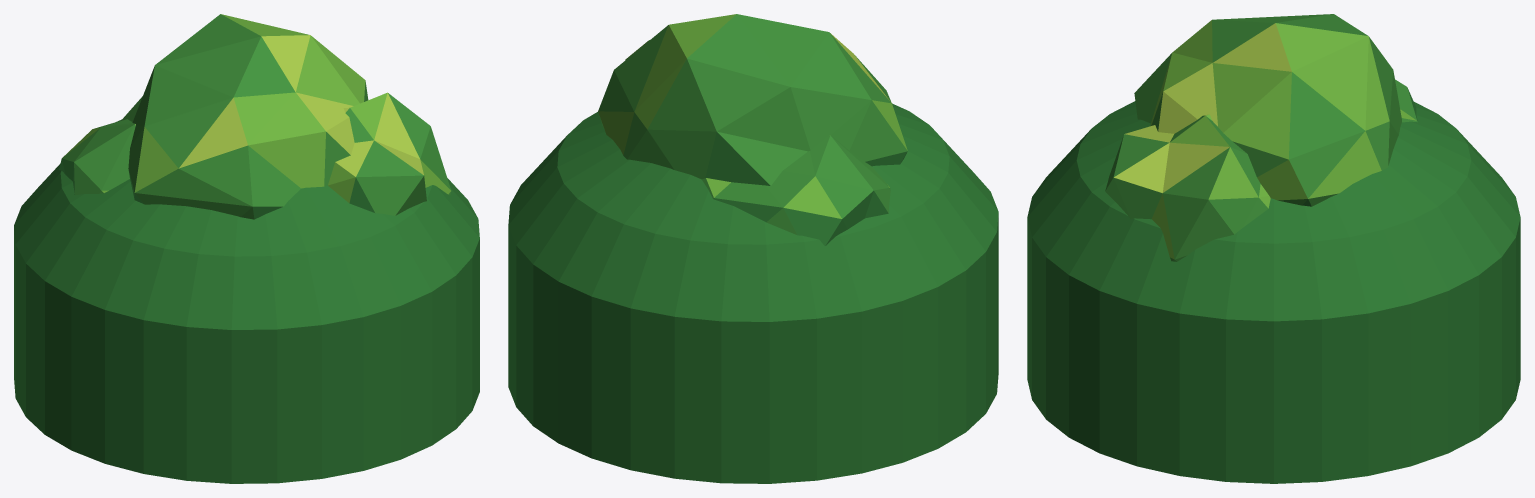
The model's file is shrub_round.glb.
3 views of the same model, side by side, from view 1: azimuth 30°, elevation 25°; view 2: azimuth 150°, elevation 25°; view 3: azimuth 270°, elevation 25° (orthographic). The views are drawn at different scales.
Parts seen in each view (by area): view 1: body; view 2: body; view 3: body.
Part boxes in pixels (left/top/right/bottom): body: left=14, top=14, right=479, bottom=483; body: left=508, top=14, right=998, bottom=483; body: left=1027, top=14, right=1520, bottom=483.
Size of the model in its own units: 1.1 by 0.897 by 1.1.
